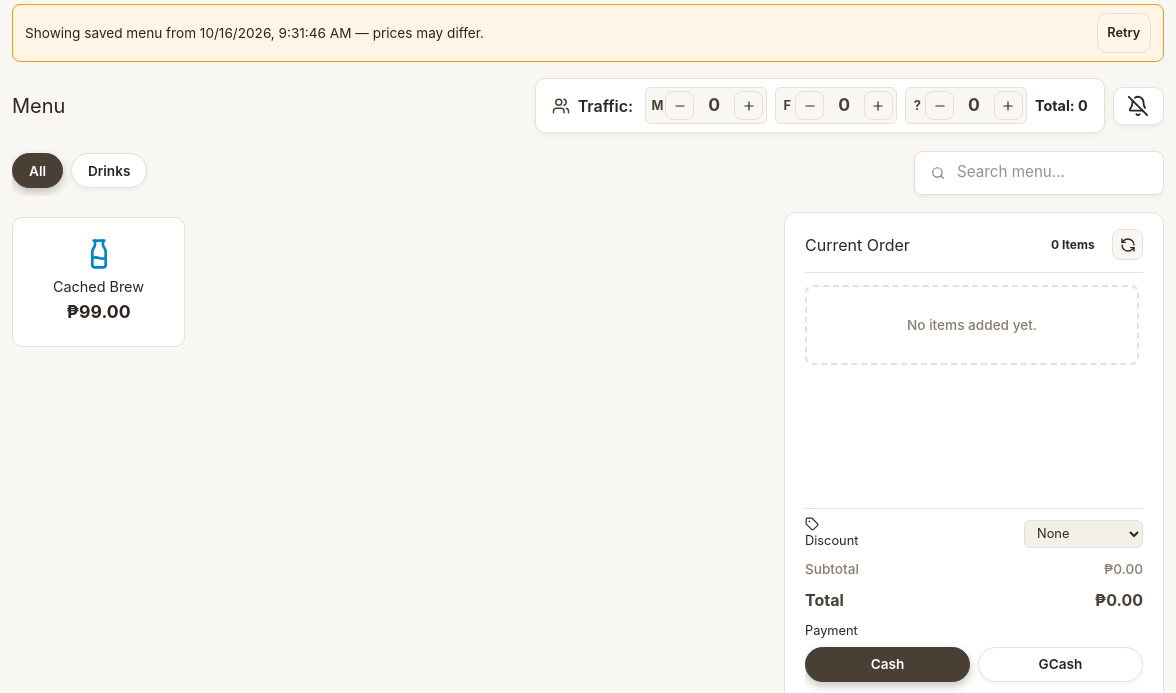
Test: MainPOS › should retry the live menu from the stale banner
Check: the message "Showing saved menu from 10/16/2026, 9:31:46 AM — prices may differ. Retry" is shown, box [12, 4, 1164, 62]
What coordinates should you click on to do the following:
click the button with test id "menu-retry-btn"
I would click on:
 (1124, 33)
Its box is [1097, 13, 1151, 53].
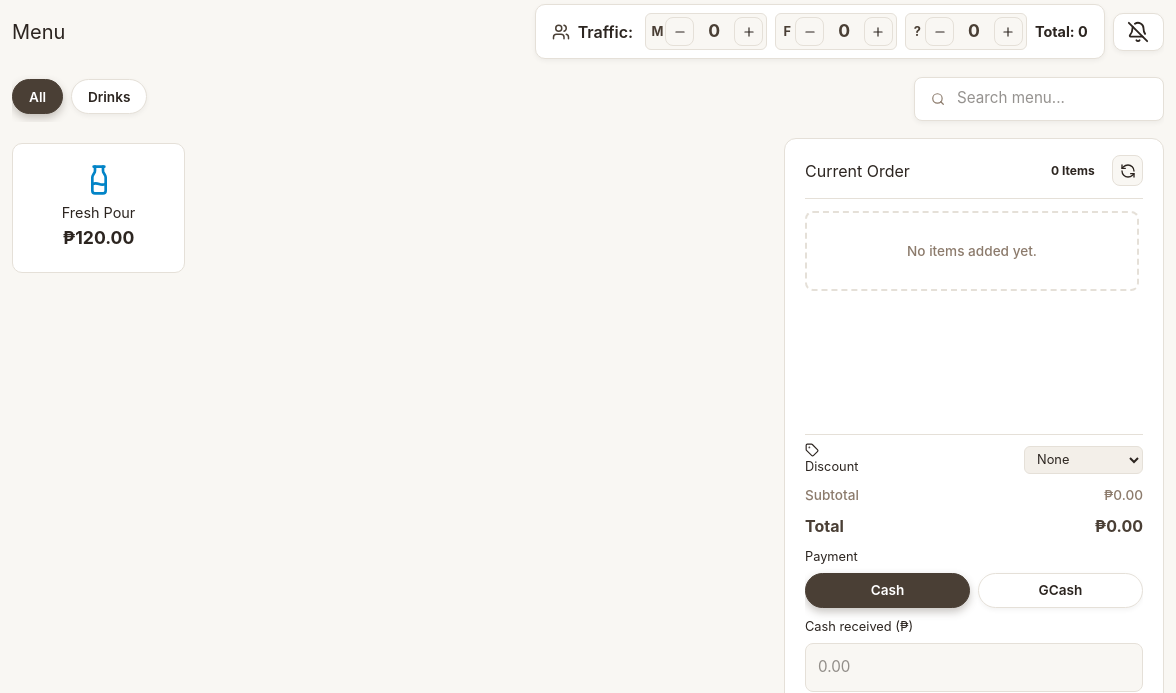
Check: the heading "Fresh Pour" is shown, box [62, 204, 135, 221]
Check: the message with test id "menu-stale-banner" is gone
